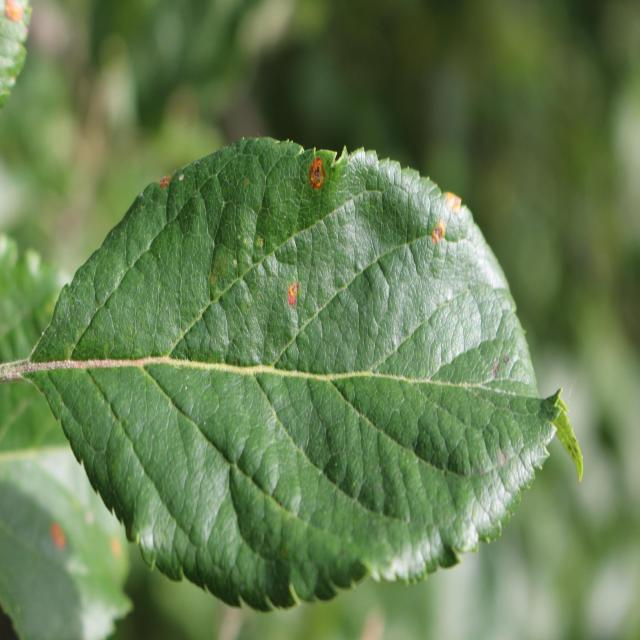Rust: (424, 212, 456, 258), (280, 269, 305, 326), (302, 154, 334, 195)
